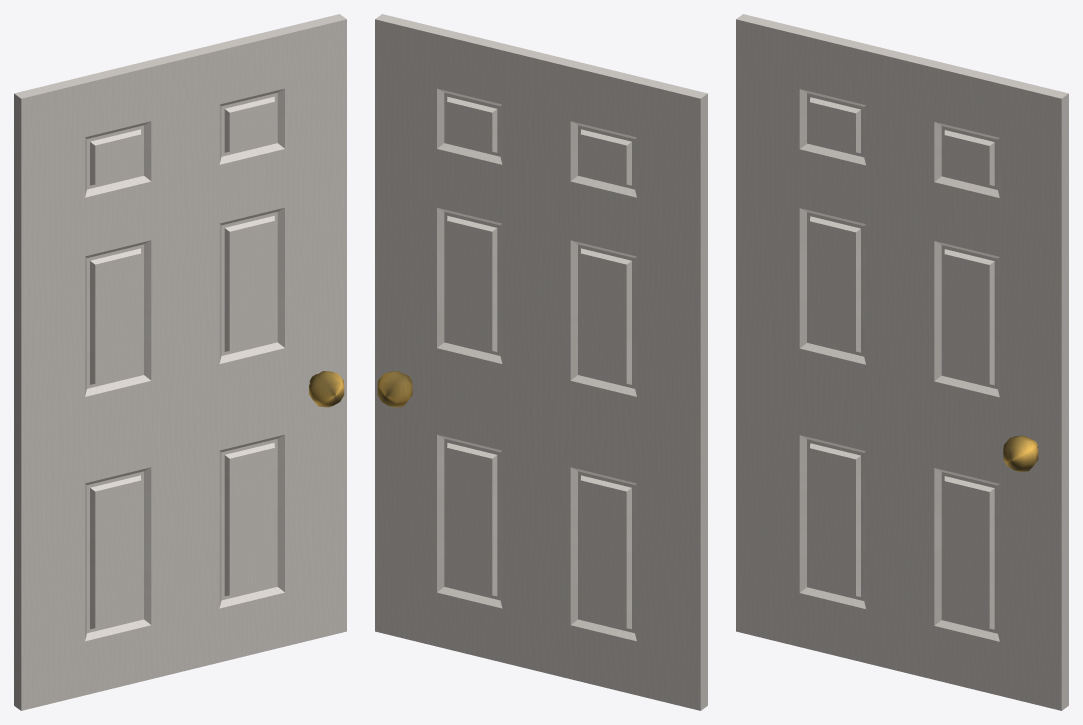
The model's file is Door_A.FBX.
The picture shows the model from 3 angles, left to right: view 1: azimuth 30°, elevation 25°; view 2: azimuth 150°, elevation 25°; view 3: azimuth 330°, elevation 25°; orthographic projection.
Parts seen in each view (by area): view 1: Door_A; view 2: Door_A; view 3: Door_A.
Part boxes in pixels (x1,y1,x2,y2): Door_A: (14, 14, 346, 710); Door_A: (375, 14, 707, 710); Door_A: (736, 14, 1068, 710).
Size of the model in its own units: 207 by 372 by 50.77.
